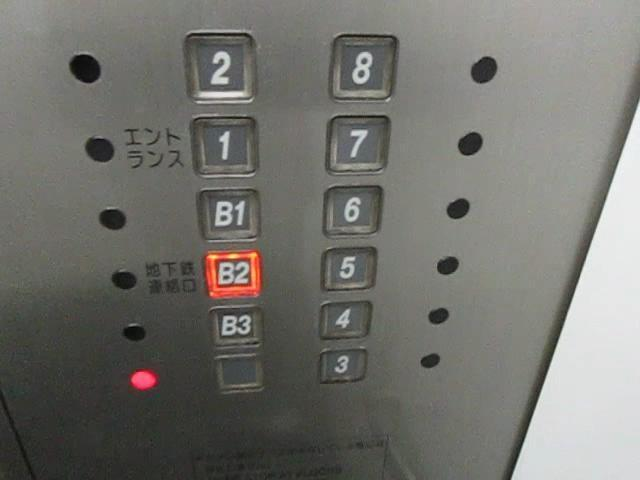1: (190, 112, 259, 177)
2: (184, 28, 258, 104)
3: (316, 344, 369, 387)
4: (316, 296, 373, 339)
5: (318, 242, 377, 293)
6: (321, 183, 384, 236)
7: (325, 112, 389, 173)
8: (328, 32, 398, 102)
B1: (196, 187, 263, 243)
B2: (201, 248, 263, 299)
B3: (207, 304, 266, 348)
unknown: (212, 350, 265, 392)
